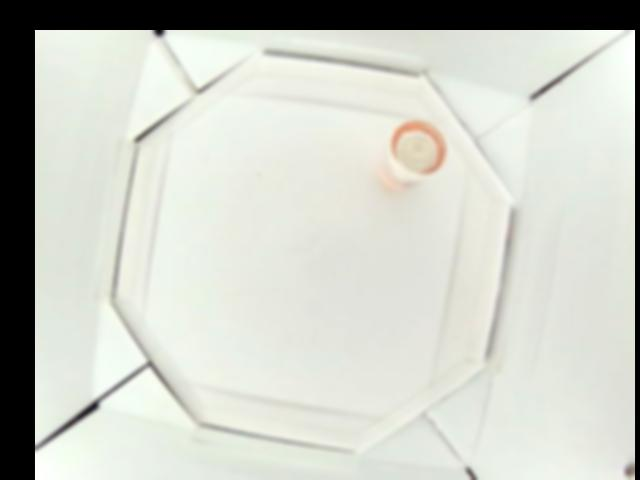Bottle: (380, 119, 450, 190)
